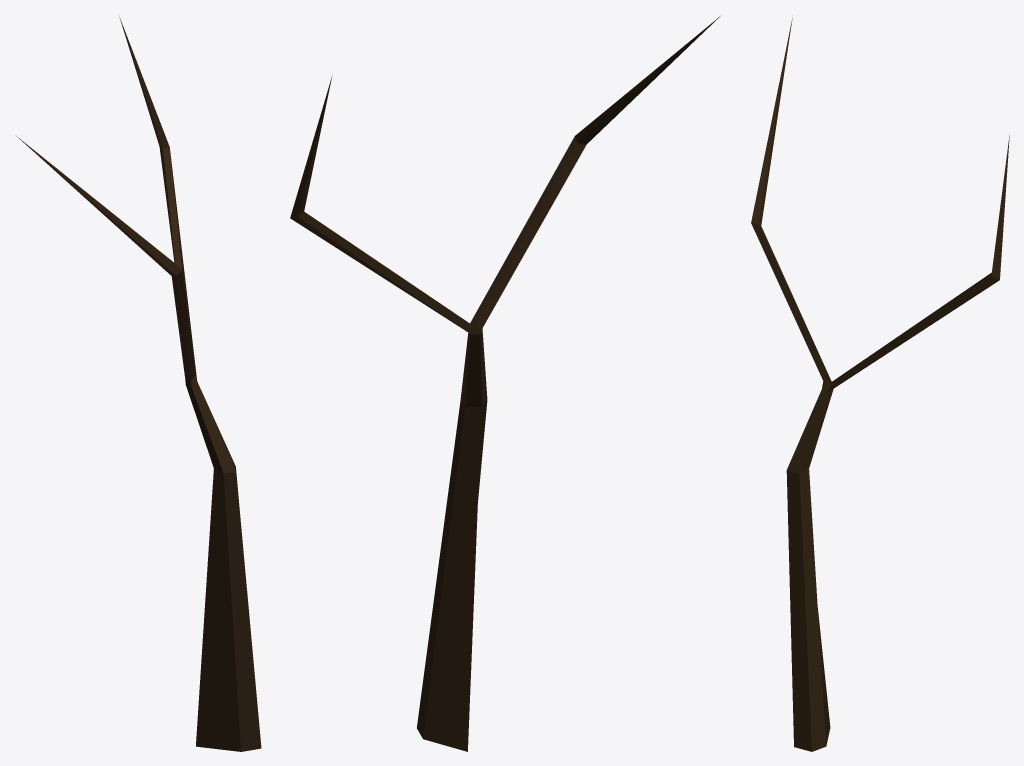
The model's file is TreeTrunk_39.fbx.
3 renders of one model, left to right at view 1: azimuth 30°, elevation 25°; view 2: azimuth 150°, elevation 25°; view 3: azimuth 270°, elevation 25°, orthographic. The views are drawn at different scales.
Parts seen in each view (by area): view 1: TreeTrunk_39; view 2: TreeTrunk_39; view 3: TreeTrunk_39.
Part boxes in pixels (left/top/right/bottom): TreeTrunk_39: left=16, top=17, right=261, bottom=751; TreeTrunk_39: left=290, top=16, right=720, bottom=751; TreeTrunk_39: left=751, top=17, right=1009, bottom=751.
Size of the model in its own units: 192 by 469 by 176.
